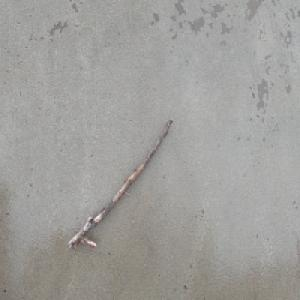Wood: (67, 117, 174, 251)
